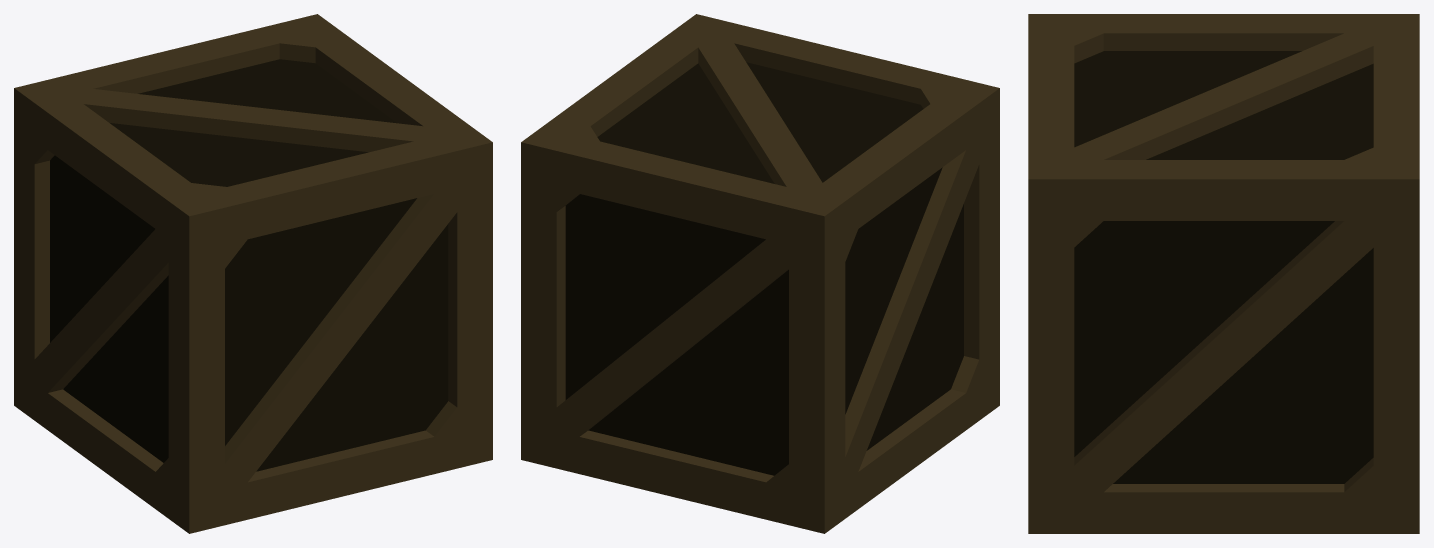
File: crate_01.FBX
3 views of the same model, side by side, from view 1: azimuth 30°, elevation 25°; view 2: azimuth 150°, elevation 25°; view 3: azimuth 270°, elevation 25° (orthographic). The views are drawn at different scales.
Parts seen in each view (by area): view 1: Box001; view 2: Box001; view 3: Box001.
Part boxes in pixels (x1,y1,x2,y2): Box001: (14,14,492,533); Box001: (521,14,999,533); Box001: (1028,14,1419,533).
Size of the model in its own units: 20 by 20 by 20.
